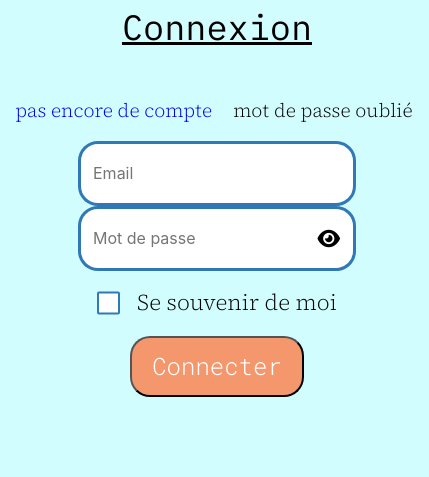
LoginSection › should render token error is submit without token
Type "test@example.com" into the field with placeholder "Email" at [217, 174], box 78,141 -> 356,206
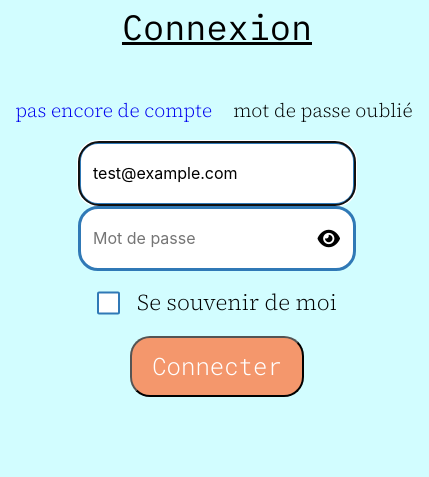
Type "Password123!" into the password field with placeholder "Mot de passe" at [217, 238], box 78,206 -> 356,271
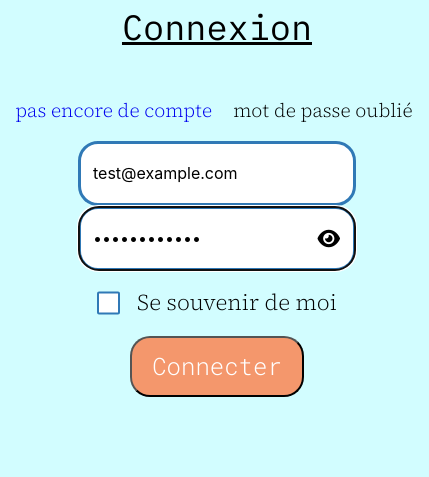
Click the button "Connecter" at [217, 366], box 130,336 -> 304,397
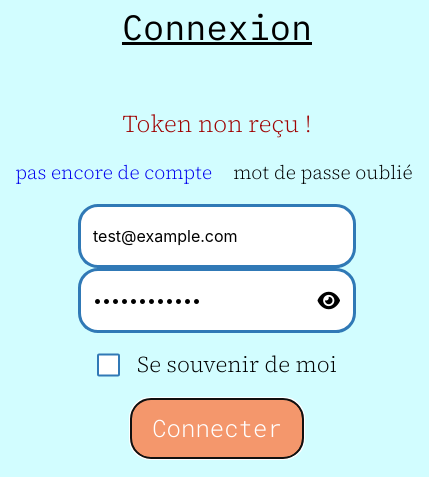
Check: the text "Token non reçu !" is shown, box 123,105 -> 311,142
